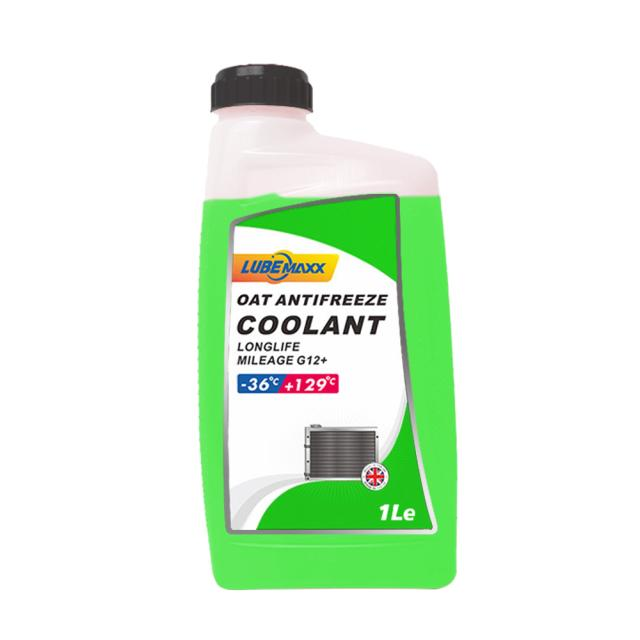coolant: (192, 60, 461, 609)
